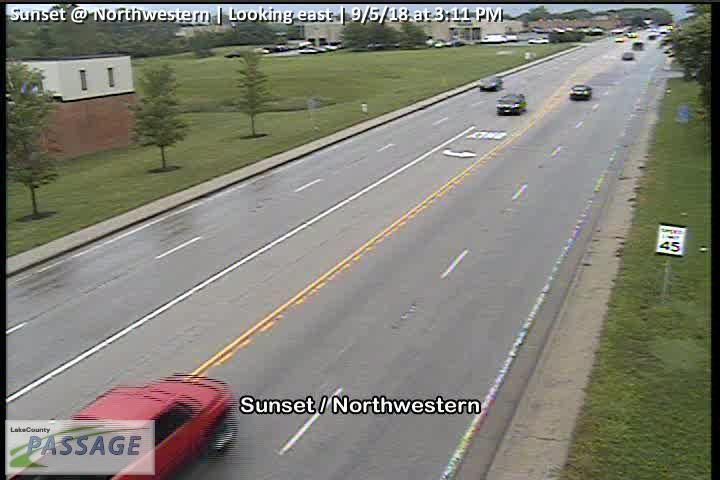SUV: (496, 93, 527, 116), (569, 85, 592, 100)
Sedan: (480, 76, 503, 91), (623, 52, 634, 59)
Truck: (8, 373, 236, 480)
